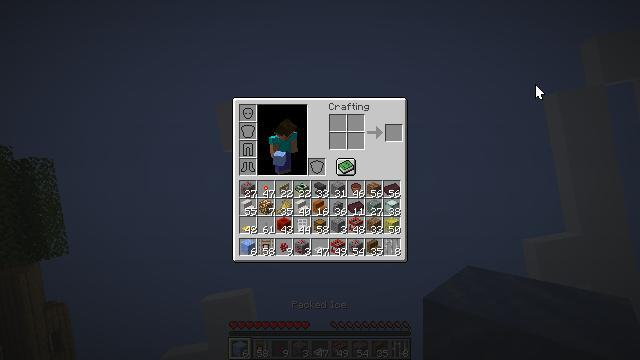cursor: (535, 84, 545, 100)
